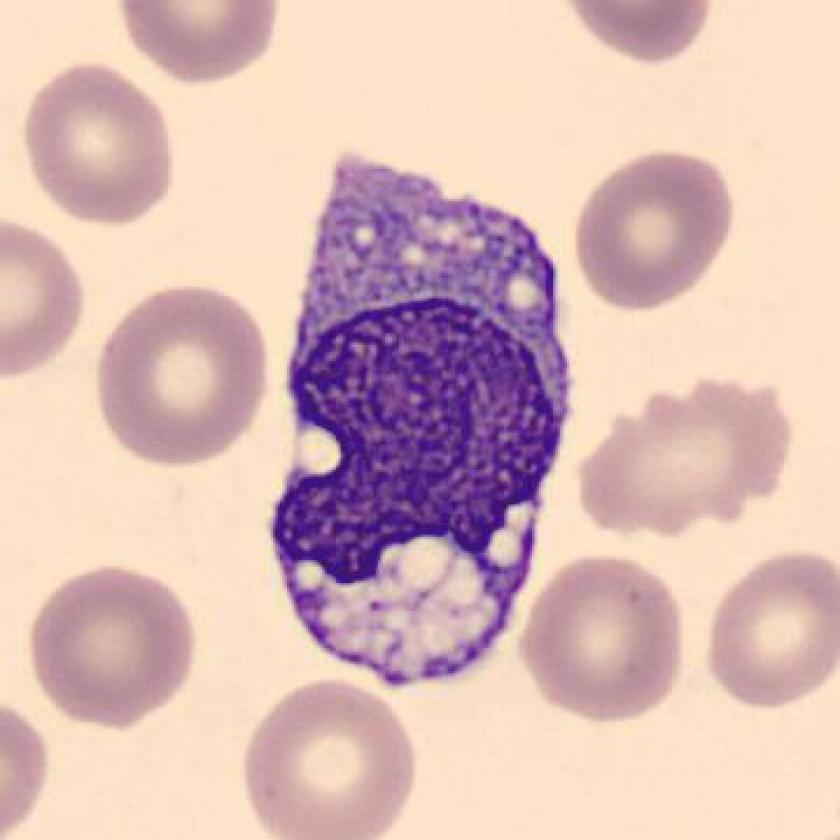monocyte: (260, 129, 582, 712)
